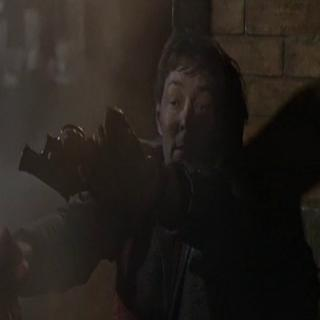gun: (15, 102, 130, 205)
